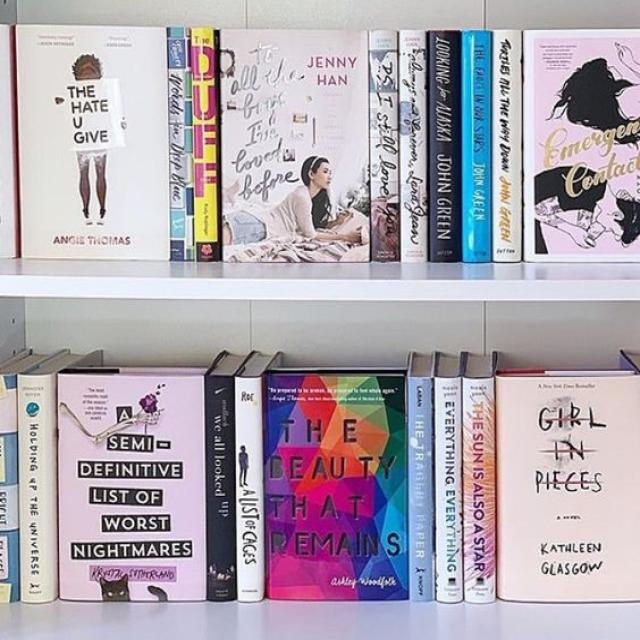book: (20, 376, 54, 603), (204, 374, 236, 601), (463, 378, 495, 603), (429, 32, 460, 261), (462, 30, 492, 262), (168, 27, 196, 261), (191, 27, 219, 261), (236, 377, 264, 602), (371, 31, 398, 262), (400, 31, 427, 262), (494, 30, 521, 261), (436, 377, 462, 603), (408, 377, 434, 602)
